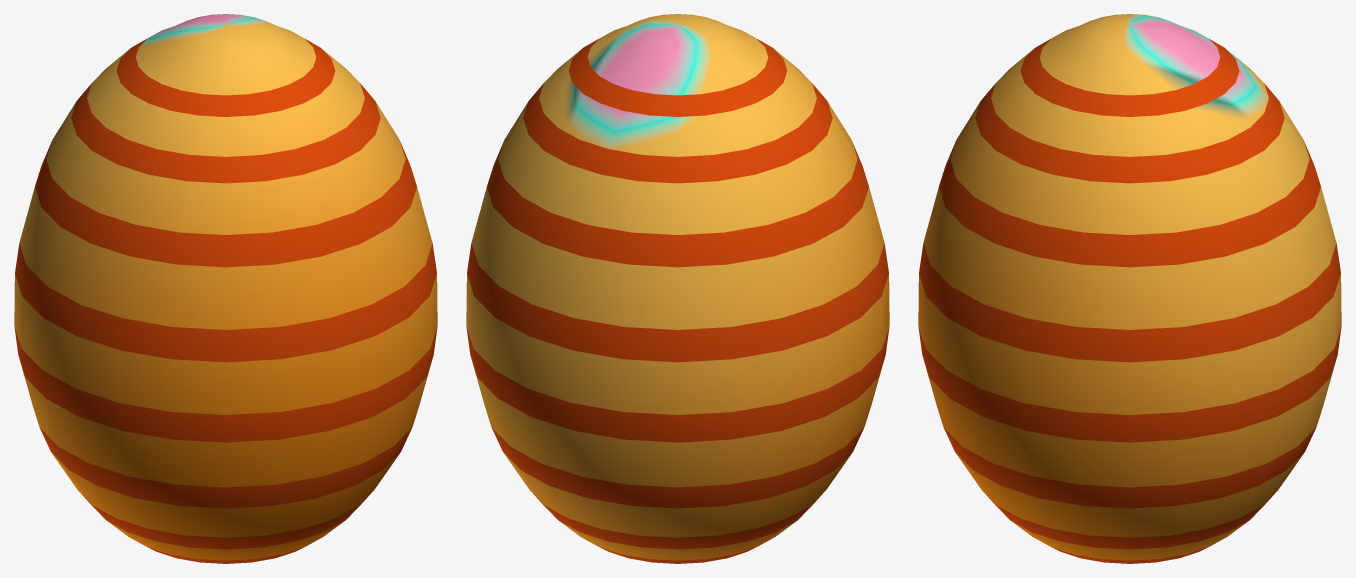
File: Game Egg_1.fbx
3 renders of one model, left to right at view 1: azimuth 30°, elevation 25°; view 2: azimuth 150°, elevation 25°; view 3: azimuth 270°, elevation 25°, orthographic.
Visible parts, largest first — view 1: Game Egg_1; view 2: Game Egg_1; view 3: Game Egg_1.
Part boxes in pixels (<box>): Game Egg_1: <box>14,14,437,563</box>; Game Egg_1: <box>466,14,889,563</box>; Game Egg_1: <box>918,14,1341,563</box>.
Bounding box in the file's own units: 0.1831 × 0.2467 × 0.1831.
